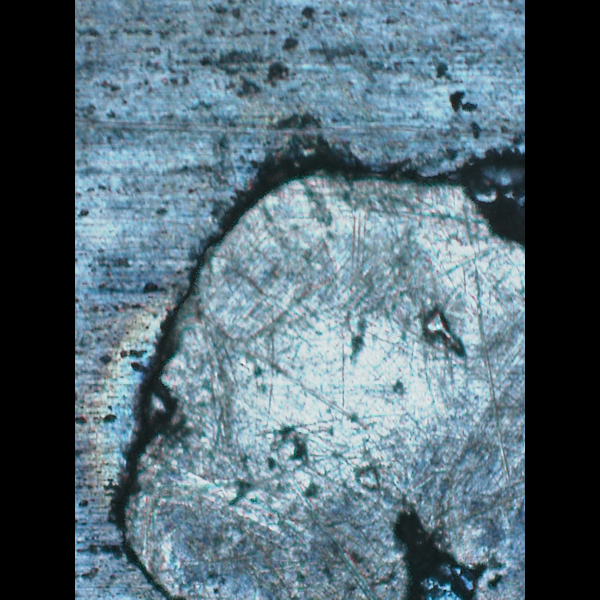d: (107, 121, 524, 599)
